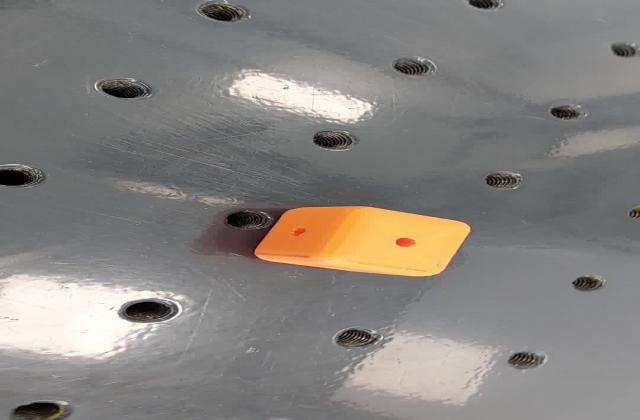cube: (251, 202, 474, 278)
